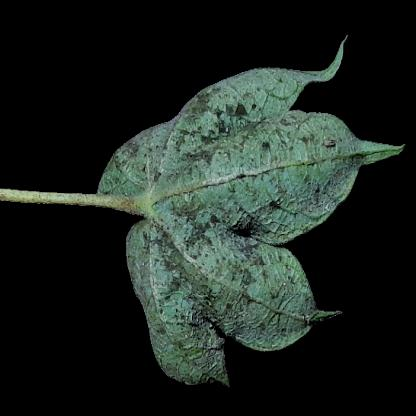curl_stage2: (279, 114, 335, 228), (263, 257, 301, 343)
sooty: (159, 153, 261, 303), (159, 95, 244, 149), (185, 287, 227, 348), (105, 146, 153, 188)
